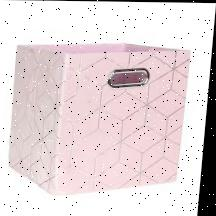cube: (6, 40, 192, 196)
